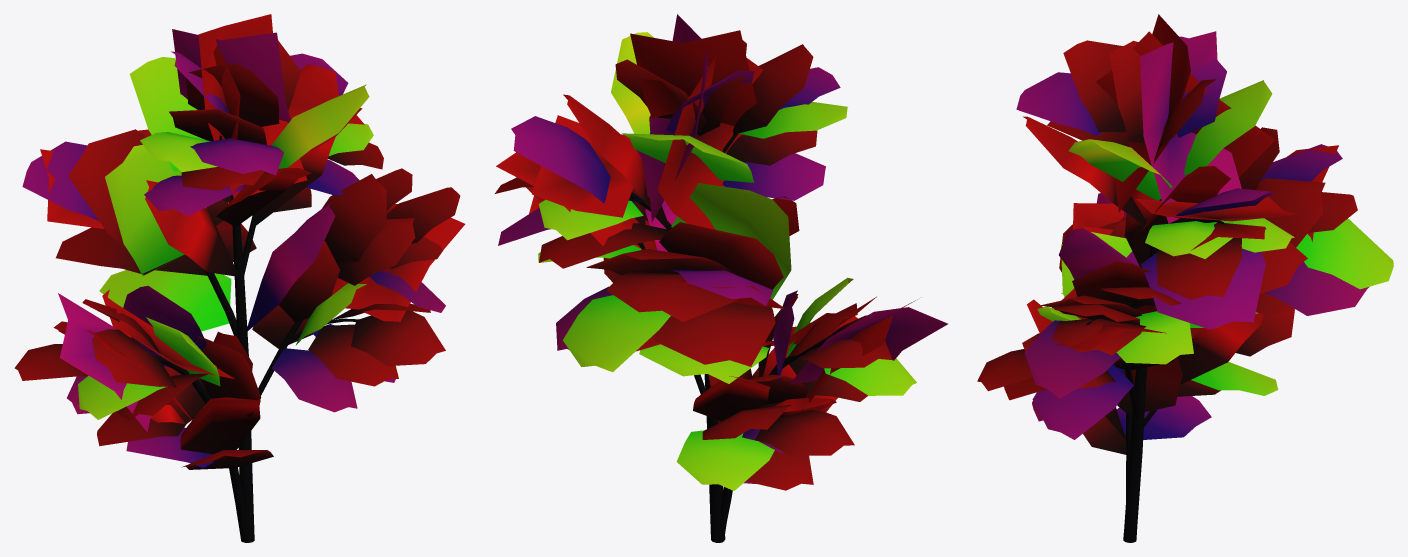
Rendered from Stree_var2.fbx.
3 renders of one model, left to right at view 1: azimuth 30°, elevation 25°; view 2: azimuth 150°, elevation 25°; view 3: azimuth 270°, elevation 25°, orthographic. The views are drawn at different scales.
Parts seen in each view (by area): view 1: STree_var2_LOD0; view 2: STree_var2_LOD0; view 3: STree_var2_LOD0.
Part boxes in pixels (<box>): STree_var2_LOD0: <box>14,14,465,542</box>; STree_var2_LOD0: <box>495,14,947,542</box>; STree_var2_LOD0: <box>977,14,1393,542</box>.
Size of what is drawn, in the model's own units: 18.64 by 22.43 by 16.64.
